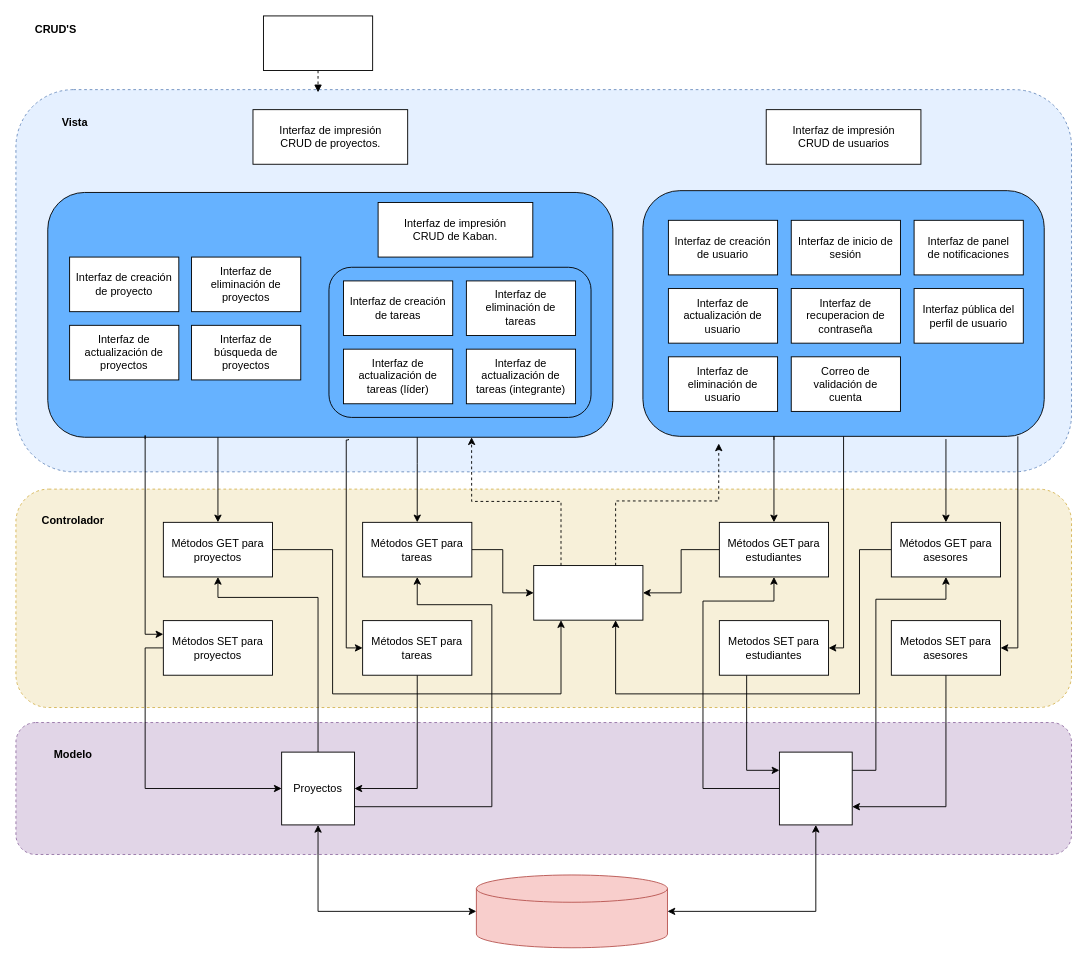
This 1087x964 diagram has some shape labels left out. The shapes that lost their labels are listed below. From the top down, each one's box as (x1, y1, x2, y2) in pixels, then its label:
(263, 15, 373, 71): Solicitudes GET/POST
(533, 565, 643, 620): Acttualizar vista
(779, 751, 852, 825): Usuarios (Alumnos, Asesores, Lideres)
(475, 874, 667, 948): Base de Datos
